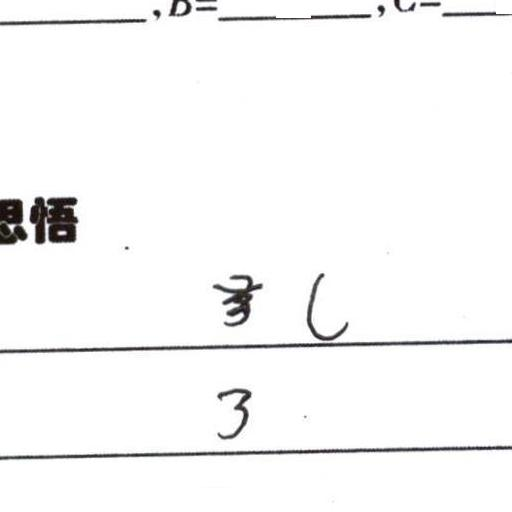ans: (300, 268, 351, 344), (213, 384, 253, 441)
